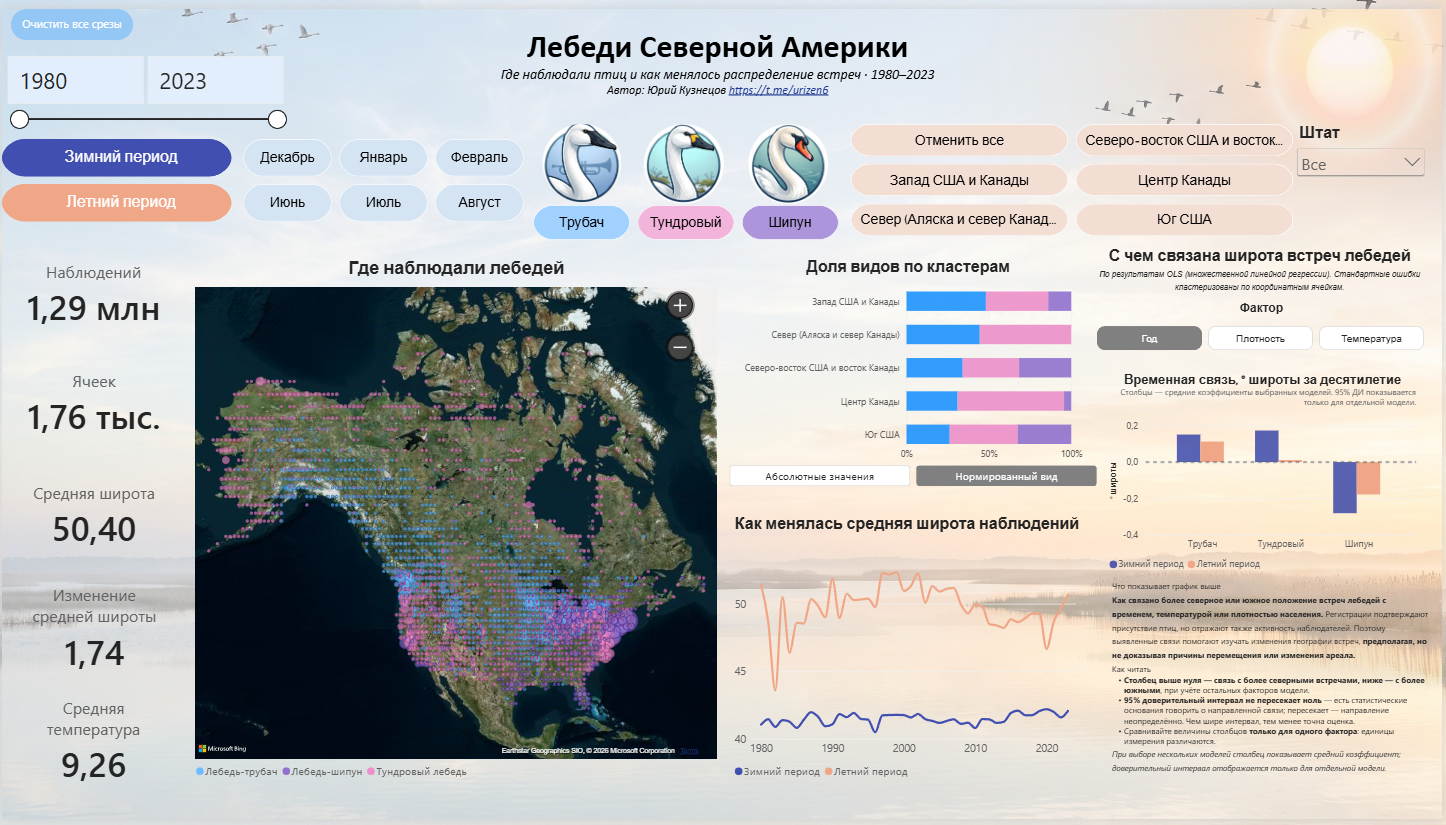

This screenshot's page, from the dashboard's own definition file:
{"tool":"powerbi","page":{"name":"Страница 1","canvas":[1920,1080],"ordinal":0},"visuals":[{"type":"textbox","box":[575,23.3,758.3,130],"z":0},{"type":"slicer","fields":{"Values":["dim_month.Year"]},"box":[0,58.3,383.3,116.7],"z":1000},{"type":"advancedSlicerVisual","fields":{"Values":["dim_species.short_name"]},"box":[708.3,261.7,408.3,46.7],"z":2000},{"type":"advancedSlicerVisual","fields":{"Values":["dim_season.SeasonName"]},"box":[0,153.3,306.7,151.7],"z":3000},{"type":"slicer","fields":{"Values":["dim_location.StateProvince"]},"box":[1721.6,153.4,180,154],"z":4000},{"type":"cardVisual","fields":{"Data":["dim_cluster.Наблюдения"]},"box":[11.7,316.7,221.7,130],"z":5000},{"type":"cardVisual","fields":{"Data":["dim_cluster.Ячейки с наблюдениями"]},"box":[12,458.8,222,137.2],"z":6000},{"type":"cardVisual","fields":{"Data":["dim_cluster.Средняя широта уникальных ячеек"]},"box":[12,608.8,222,137.2],"z":7000},{"type":"cardVisual","fields":{"Data":["dim_cluster.Средняя температура по ячейкам"]},"box":[11.7,909,221.7,137.7],"z":8000},{"type":"map","title":"Где наблюдали лебедей","fields":{"Series":["dim_species.RussianName"],"Size":["dim_cluster.Наблюдения"],"X":["dim_location.Longitude"],"Y":["dim_location.Latitude"]},"box":[242,316,728,730],"z":9000},{"type":"image","box":[980,153.3,136.7,106.7],"z":10000},{"type":"image","box":[696.7,153.3,152.7,104.3],"z":11000},{"type":"image","box":[838.3,153.3,141.5,106.1],"z":12000},{"type":"lineChart","title":"Как менялась средняя широта наблюдений","fields":{"Category":["dim_month.Year"],"Series":["dim_season.SeasonName"],"Y":["dim_cluster.Средняя широта уникальных ячеек"]},"box":[960,660,493.3,386.7],"z":13000},{"type":"hundredPercentStackedBarChart","title":"Доля видов по кластерам","fields":{"Category":["dim_cluster.ClusterName"],"Series":["dim_species.short_name"],"Y":["dim_cluster.Ячейки с наблюдениями"]},"box":[960,316.7,496.7,305],"z":15000},{"type":"bookmarkNavigator","box":[970,608.3,490,28.3],"z":16000},{"type":"advancedSlicerVisual","fields":{"Values":["dim_cluster.Кластер"]},"box":[1131.7,153.3,590,151.7],"z":17000},{"type":"actionButton","box":[11.7,0,163.3,41.7],"z":18000},{"type":"cardVisual","fields":{"Data":["dim_cluster.Изменение средней широты"]},"box":[11.7,758.7,223.3,136.3],"z":19000},{"type":"advancedSlicerVisual","title":"Фактор","fields":{"Values":["fact_regression.Factor"]},"box":[1460,390,438.3,65.3],"z":20000},{"type":"clusteredColumnChart","fields":{"Category":["dim_species.Вид"],"Series":["dim_season.SeasonName"],"Y":["dim_cluster.Регрессия — оценка"]},"box":[1460.2,470.8,441.4,299.7],"z":21000},{"type":"textbox","box":[1480,758.3,421.7,288.3],"z":22000},{"type":"textbox","box":[1460,316,434,74],"z":23000},{"type":"advancedSlicerVisual","fields":{"Values":["dim_month.MonthName"]},"box":[321.7,153.3,375,151.7],"z":24000}]}

Visuals, with their boxes in screenshot pixels (x1, y1, x2, y2), scaled from the page's 1920x1080 canvas onto the 1446x825 screenshot:
textbox: 433 18 1004 117
slicer - dim_month.Year: 0 45 289 134
advancedSlicerVisual - dim_species.short_name: 533 200 841 236
advancedSlicerVisual - dim_season.SeasonName: 0 117 231 233
slicer - dim_location.StateProvince: 1297 117 1432 235
cardVisual - dim_cluster.Наблюдения: 9 242 176 341
cardVisual - dim_cluster.Ячейки с наблюдениями: 9 350 176 455
cardVisual - dim_cluster.Средняя широта уникальных ячеек: 9 465 176 570
cardVisual - dim_cluster.Средняя температура по ячейкам: 9 694 176 800
"Где наблюдали лебедей" map: 182 241 731 799
image: 738 117 841 199
image: 525 117 640 197
image: 631 117 738 198
"Как менялась средняя широта наблюдений" lineChart: 723 504 1095 800
"Доля видов по кластерам" hundredPercentStackedBarChart: 723 242 1097 475
bookmarkNavigator: 731 465 1100 486
advancedSlicerVisual - dim_cluster.Кластер: 852 117 1297 233
actionButton: 9 0 132 32
cardVisual - dim_cluster.Изменение средней широты: 9 580 177 684
"Фактор" advancedSlicerVisual: 1100 298 1430 348
clusteredColumnChart - dim_species.Вид x dim_season.SeasonName: 1100 360 1432 589
textbox: 1115 579 1432 799
textbox: 1100 241 1426 298
advancedSlicerVisual - dim_month.MonthName: 242 117 525 233
